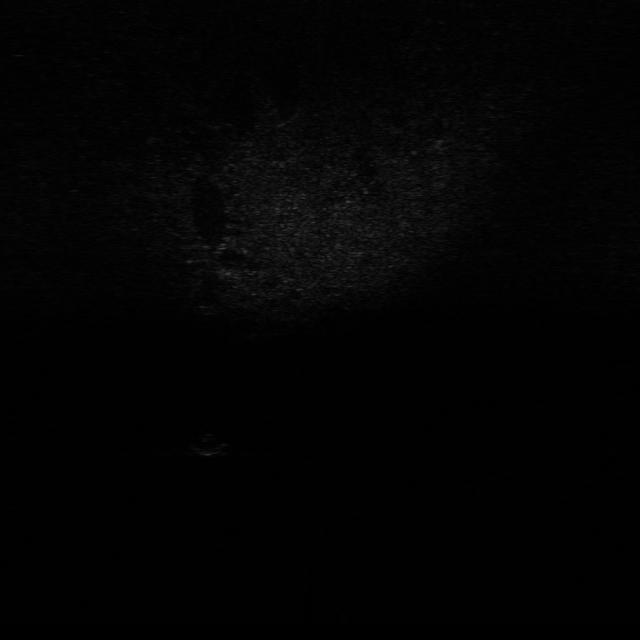ball: (190, 428, 230, 458)
